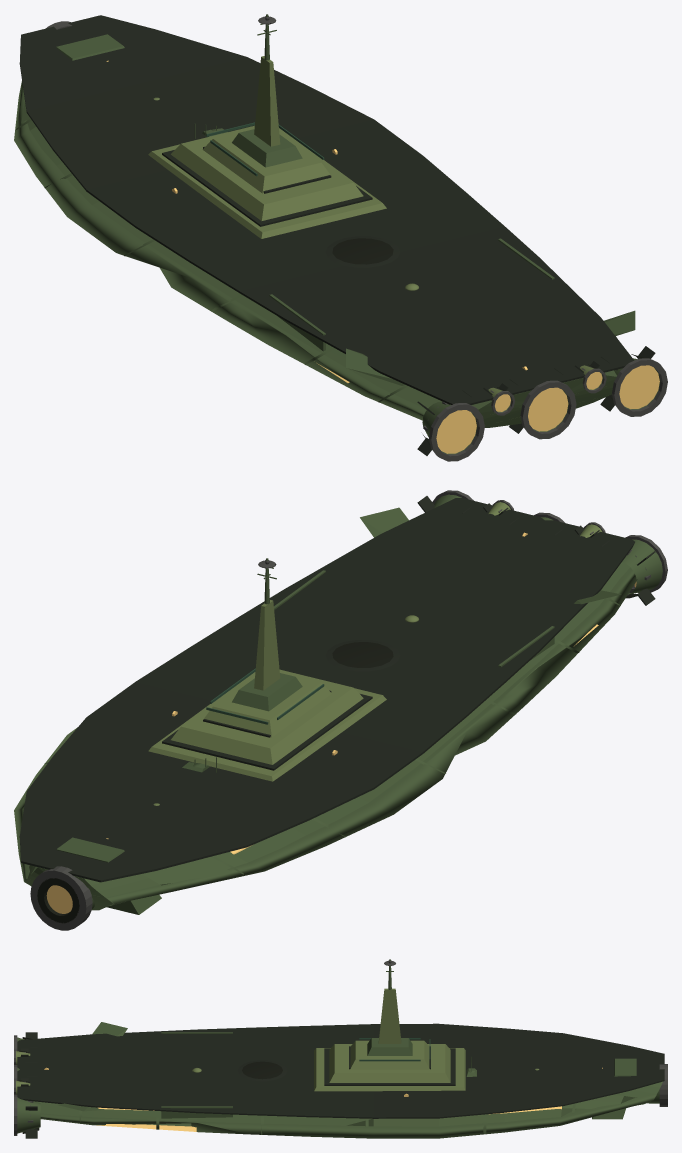
File: garmillas_dessler.obj
3 renders of one model, top to bottom at view 1: azimuth 30°, elevation 25°; view 2: azimuth 150°, elevation 25°; view 3: azimuth 270°, elevation 25°, orthographic. The views are drawn at different scales.
Parts seen in each view (by area): view 1: hull, superstructure, engine_nozzle, bridge, wing, radiator; view 2: hull, superstructure, bridge, engine_nozzle, wave_motion_gun, wing; view 3: hull, superstructure, bridge, engine_nozzle, radiator, wing, wave_motion_gun.
Boxes of the visible parts, x1,y1,x2,y2 form: hull: (14,15,634,427); superstructure: (148,123,386,238); engine_nozzle: (417,346,667,461); bridge: (153,14,419,290); wing: (202,128,635,385); radiator: (269,238,554,351); hull: (14,498,637,914); superstructure: (148,669,386,781); bridge: (153,558,419,805); engine_nozzle: (417,490,667,605); wave_motion_gun: (30,866,94,930); wing: (182,507,621,772); hull: (17,1023,664,1138); superstructure: (314,1040,471,1091); bridge: (192,959,539,1072); engine_nozzle: (14,1032,40,1138); radiator: (161,1032,232,1118); wing: (57,1022,476,1111); wave_motion_gun: (647,1064,667,1106).
Size of the model in its own units: 245 by 156 by 638.
